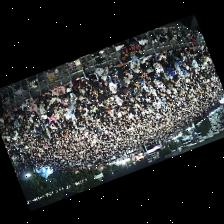person: (81, 63, 99, 84), (151, 55, 164, 75), (147, 66, 159, 83), (172, 53, 185, 68), (72, 77, 85, 92), (172, 47, 187, 59), (52, 85, 65, 98), (116, 62, 129, 75), (139, 56, 151, 69), (116, 84, 127, 98), (167, 66, 179, 78), (131, 68, 143, 80), (96, 66, 108, 78), (142, 69, 150, 86), (42, 90, 52, 103), (39, 102, 47, 118), (108, 78, 117, 92), (122, 85, 132, 97), (158, 48, 166, 63), (99, 75, 109, 87), (130, 59, 140, 71), (118, 72, 130, 82), (21, 99, 29, 114), (84, 82, 93, 95), (5, 108, 14, 121), (94, 81, 103, 94), (107, 64, 115, 78), (119, 76, 129, 87), (50, 102, 60, 113), (50, 93, 59, 105), (68, 91, 77, 103), (68, 100, 76, 113), (12, 106, 21, 117), (29, 103, 37, 115), (174, 61, 182, 73), (97, 94, 106, 104), (60, 92, 68, 103), (192, 58, 199, 70), (113, 68, 119, 82), (49, 113, 56, 125), (64, 82, 72, 91), (189, 46, 197, 55), (60, 102, 68, 111), (115, 94, 122, 104), (92, 88, 98, 99), (80, 87, 85, 99), (103, 87, 110, 95), (44, 101, 50, 109), (200, 45, 204, 53)
